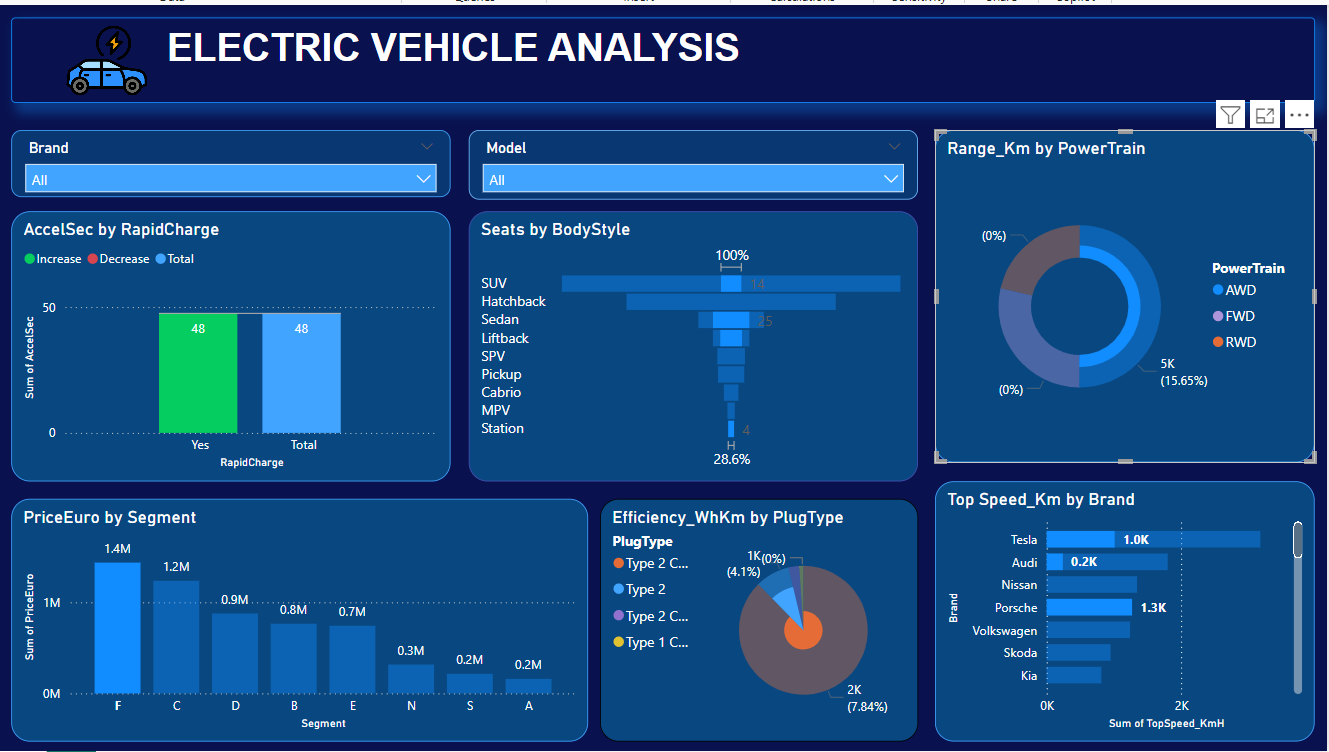

Layout of this report page (visuals, bound fields, positions):
{"tool":"powerbi","page":{"name":"Page 1","canvas":[1280,720],"ordinal":0},"visuals":[{"type":"barChart","title":"Top Speed_Km by Brand","fields":{"Category":["ElectricCarData_Clean.Brand"],"Y":["Sum(ElectricCarData_Clean.TopSpeed_KmH)"]},"box":[902.9,459.7,366.4,251.1],"z":0},{"type":"textbox","box":[11,12.3,1258.3,82.3],"z":1},{"type":"image","box":[56.3,12.3,93.3,82.3],"z":2},{"type":"donutChart","title":"Range_Km by PowerTrain","fields":{"Category":["ElectricCarData_Clean.PowerTrain"],"Y":["Sum(ElectricCarData_Clean.Range_Km)"]},"box":[902.9,120.8,366.4,321.1],"z":3},{"type":"slicer","fields":{"Values":["ElectricCarData_Clean.Brand"]},"box":[11,120.8,424,64.5],"z":4},{"type":"slicer","fields":{"Values":["ElectricCarData_Clean.Model"]},"box":[452.8,120.8,433.6,67.2],"z":5},{"type":"funnel","title":" Seats by BodyStyle","fields":{"Y":["Sum(ElectricCarData_Clean.Seats)"],"Category":["ElectricCarData_Clean.BodyStyle"]},"box":[452.8,199,433.6,260.7],"z":6},{"type":"clusteredColumnChart","title":"PriceEuro by Segment","fields":{"Y":["Sum(ElectricCarData_Clean.PriceEuro)"],"Category":["ElectricCarData_Clean.Segment"]},"box":[11,476.2,557.1,234.6],"z":7},{"type":"waterfallChart","title":"AccelSec by RapidCharge","fields":{"Category":["ElectricCarData_Clean.RapidCharge"],"Y":["Sum(ElectricCarData_Clean.AccelSec)"]},"box":[11,199,424,260.7],"z":8},{"type":"pieChart","title":" Efficiency_WhKm by PlugType","fields":{"Category":["ElectricCarData_Clean.PlugType"],"Y":["Sum(ElectricCarData_Clean.Efficiency_WhKm)"]},"box":[579.1,476.2,307.4,234.6],"z":9}]}

Visuals, with their boxes in screenshot pixels (x1, y1, x2, y2):
"Top Speed_Km by Brand" barChart: locate(931, 478, 1320, 744)
textbox: locate(0, 3, 1320, 90)
image: locate(32, 3, 131, 90)
"Range_Km by PowerTrain" donutChart: locate(931, 118, 1320, 459)
slicer - ElectricCarData_Clean.Brand: locate(0, 118, 434, 186)
slicer - ElectricCarData_Clean.Model: locate(453, 118, 913, 189)
" Seats by BodyStyle" funnel: locate(453, 201, 913, 478)
"PriceEuro by Segment" clusteredColumnChart: locate(0, 495, 575, 744)
"AccelSec by RapidCharge" waterfallChart: locate(0, 201, 434, 478)
" Efficiency_WhKm by PlugType" pieChart: locate(587, 495, 913, 744)
